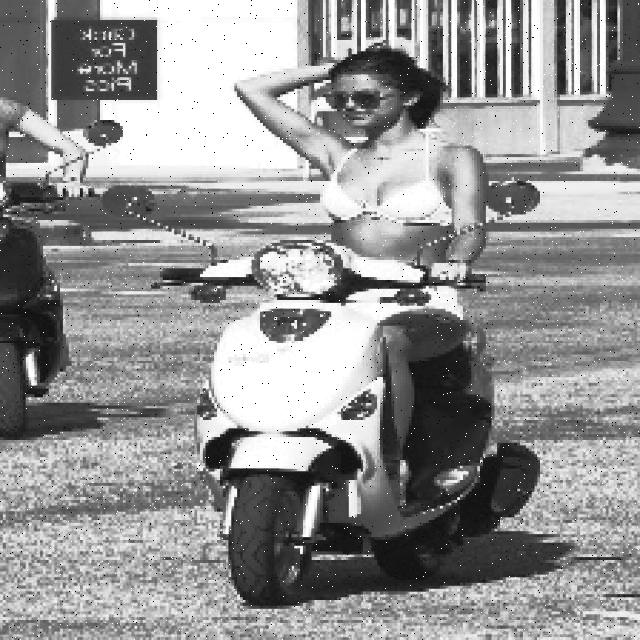Bike: (193, 251, 519, 571)
